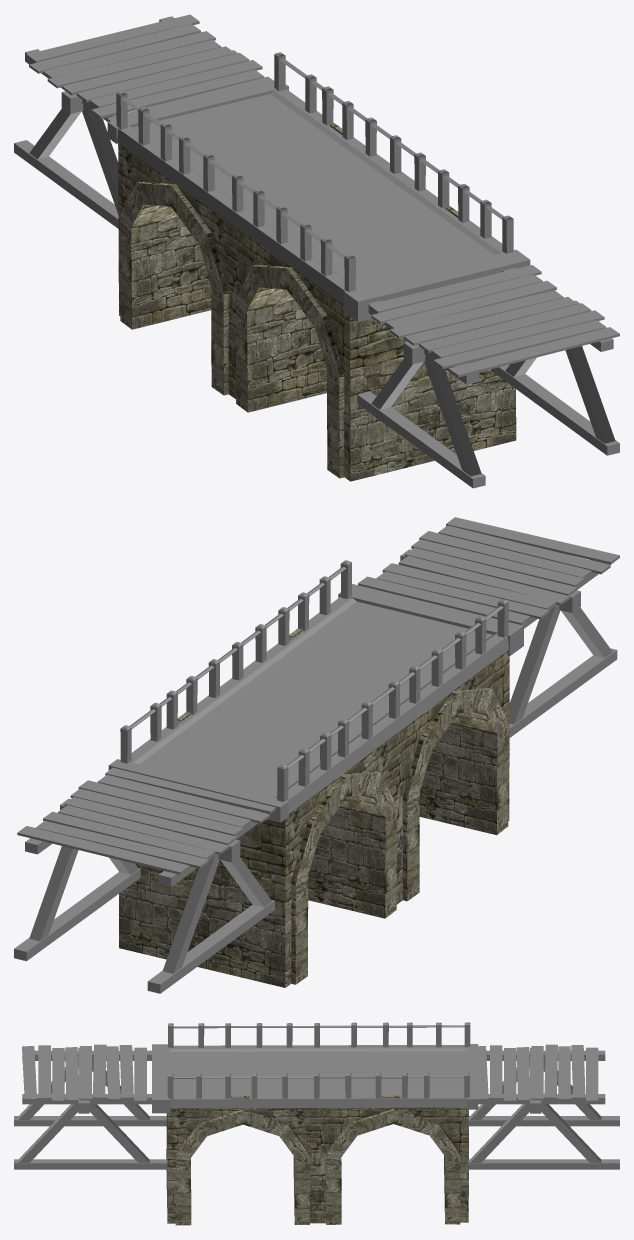
File: bridge_2.fbx
The picture shows the model from 3 angles, top to bottom: view 1: azimuth 30°, elevation 25°; view 2: azimuth 150°, elevation 25°; view 3: azimuth 270°, elevation 25°; orthographic projection. The views are drawn at different scales.
Parts seen in each view (by area): view 1: bridge_2; view 2: bridge_2; view 3: bridge_2.
Part boxes in pixels (x1,y1,x2,y2): bridge_2: (14,14,619,488); bridge_2: (14,517,619,993); bridge_2: (14,1022,619,1225).
Bounding box in the file's own units: 557 × 659 × 2454.
